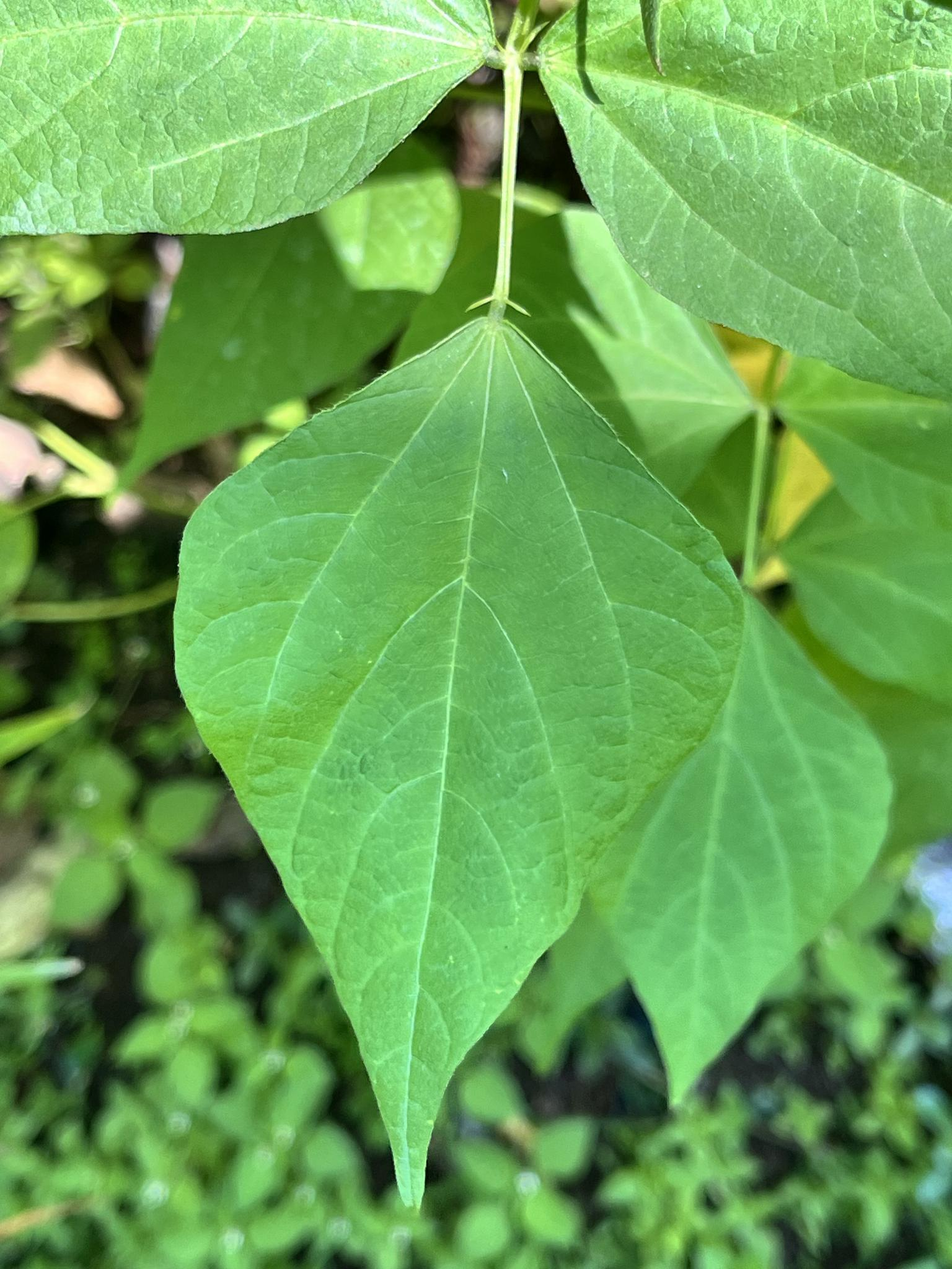sehat: (167, 309, 748, 1221)
